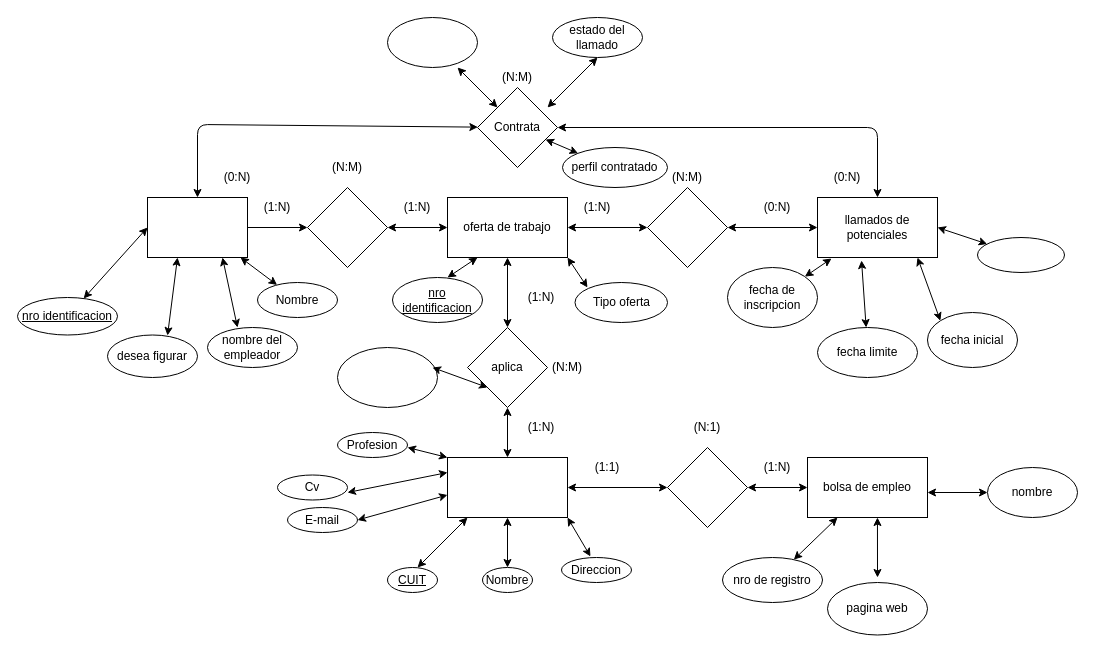
Image size: 1095x653. Some labels were removed from this diagram. The centre of each missing label's shape, as x and y in pixels:
Empresa: the point at 197,227
fecha: the point at 387,377
genera: the point at 687,227
nro del llamado: the point at 1020,254
ofrece: the point at 347,227
Postulante: the point at 507,487
registra: the point at 707,487
situacion del solicitante: the point at 432,42
